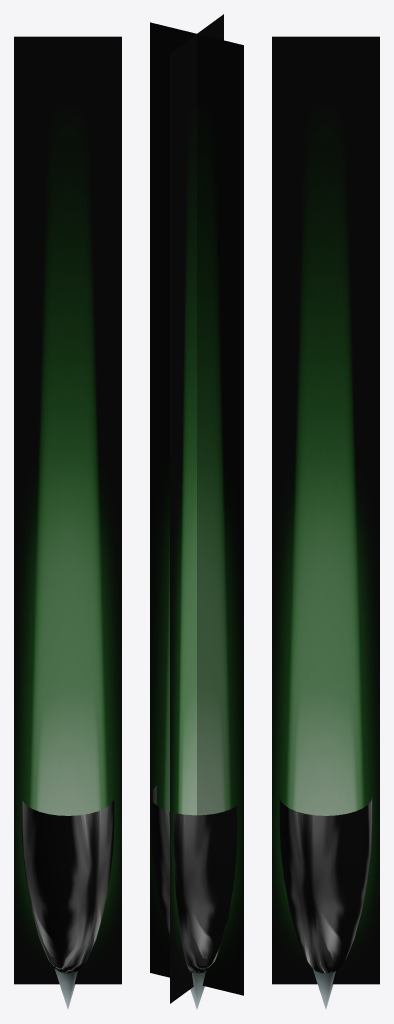
Rendered from paodan.fbx.
3 views of the same model, side by side, from view 1: azimuth 90°, elevation 25°; view 2: azimuth 150°, elevation 25°; view 3: azimuth 270°, elevation 25° (orthographic).
Parts seen in each view (by area): view 1: fire_trail, fire_zhaozi, zidan; view 2: fire_trail, fire_zhaozi, zidan; view 3: fire_trail, fire_zhaozi, zidan.
Part boxes in pixels (left/top/right/bottom): fire_trail: left=14, top=36, right=121, bottom=984; fire_zhaozi: left=21, top=797, right=114, bottom=973; zidan: left=54, top=968, right=77, bottom=1008; fire_trail: left=150, top=14, right=243, bottom=1003; fire_zhaozi: left=150, top=786, right=237, bottom=973; zidan: left=190, top=971, right=205, bottom=1009; fire_trail: left=272, top=36, right=379, bottom=984; fire_zhaozi: left=279, top=797, right=372, bottom=973; zidan: left=312, top=968, right=335, bottom=1008.
Size of the model in its own units: 0.6777 by 6.75 by 0.6777.
